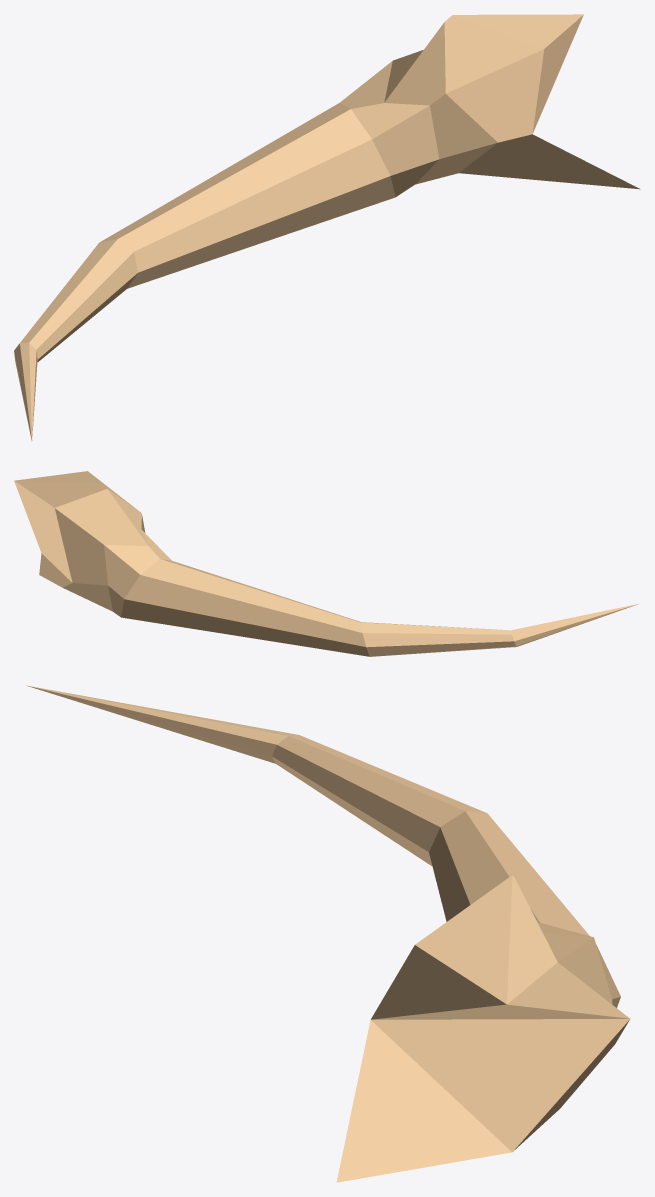
Rendered from Branch 8.fbx.
The picture shows the model from 3 angles, top to bottom: view 1: azimuth 30°, elevation 25°; view 2: azimuth 150°, elevation 25°; view 3: azimuth 270°, elevation 25°; orthographic projection. The views are drawn at different scales.
Visible parts, largest first — view 1: Branch 8; view 2: Branch 8; view 3: Branch 8.
Part boxes in pixels (x1,y1,x2,y2): Branch 8: (14, 14, 640, 440); Branch 8: (14, 471, 639, 656); Branch 8: (26, 685, 629, 1182).
Bounding box in the file's own units: 37.83 × 8.68 × 19.6.
